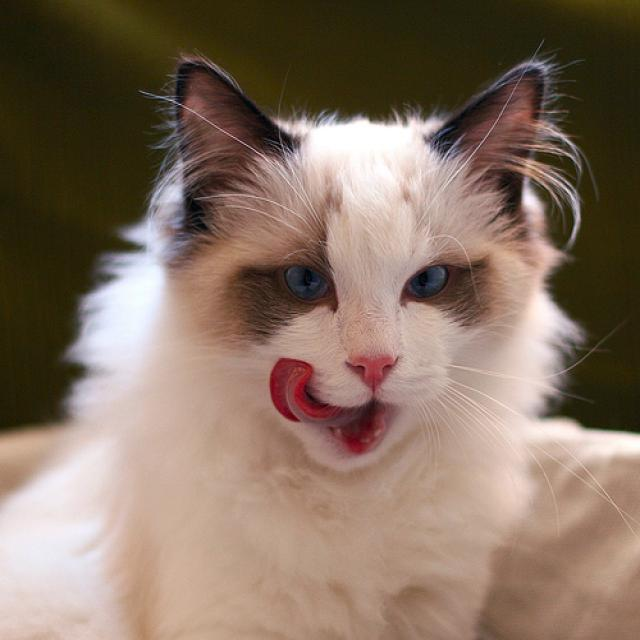Ragdoll: (139, 47, 579, 470)
